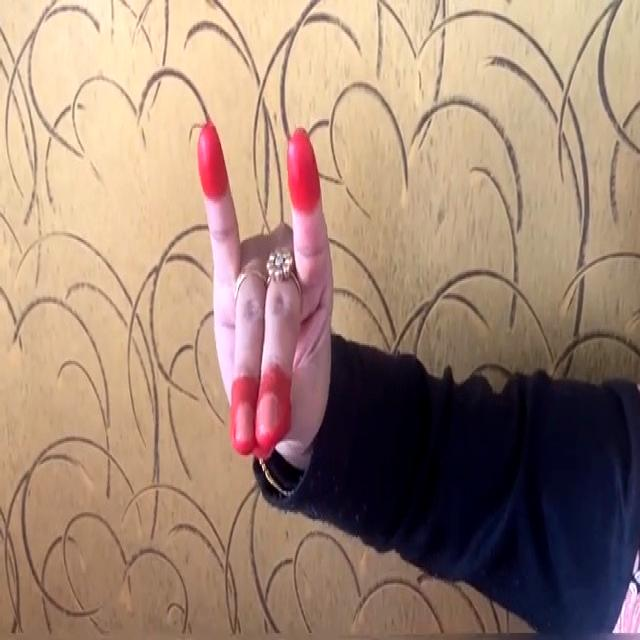Simhamukha: (174, 99, 358, 500)
